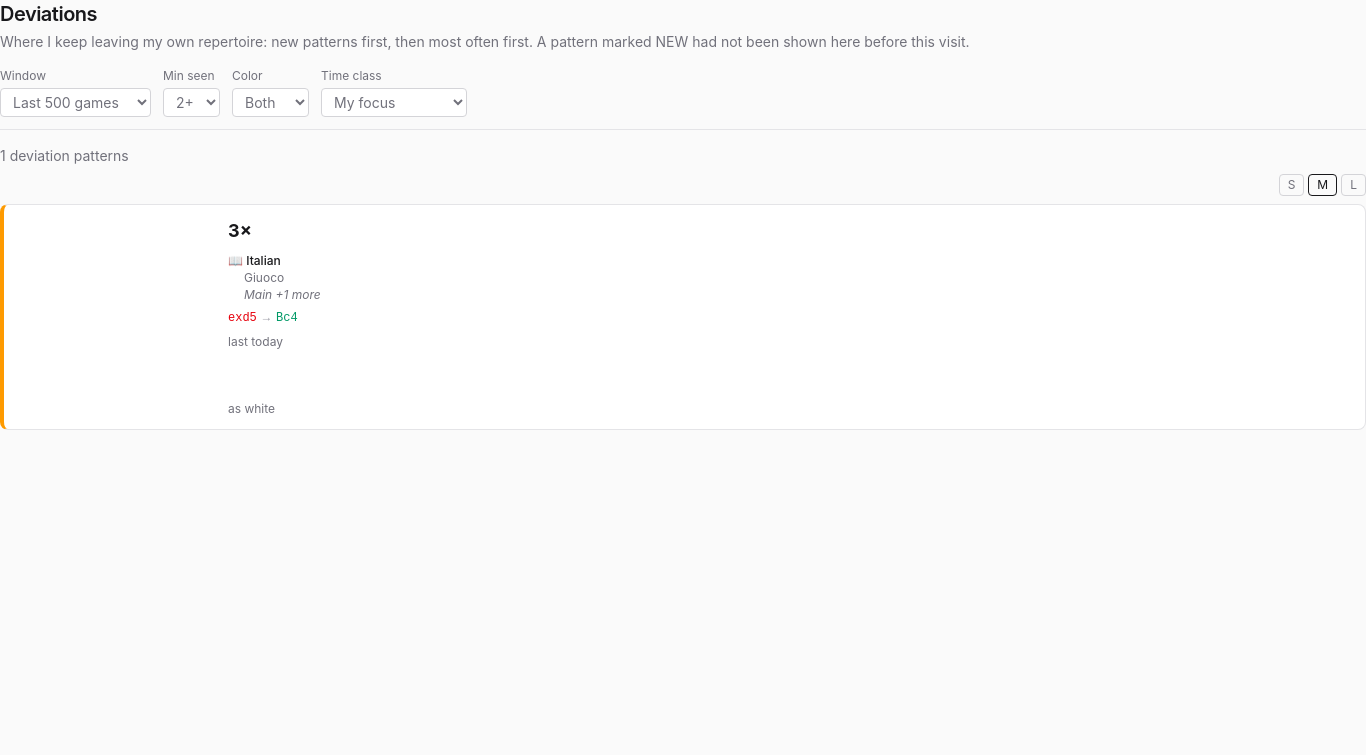
Test: Deviations page › similar positions asks about the pattern's most common move only when it is legal on the displayed board
Step 1. Click the text "3×" → (240,231), box [228, 217, 252, 245]
(page scrolled)
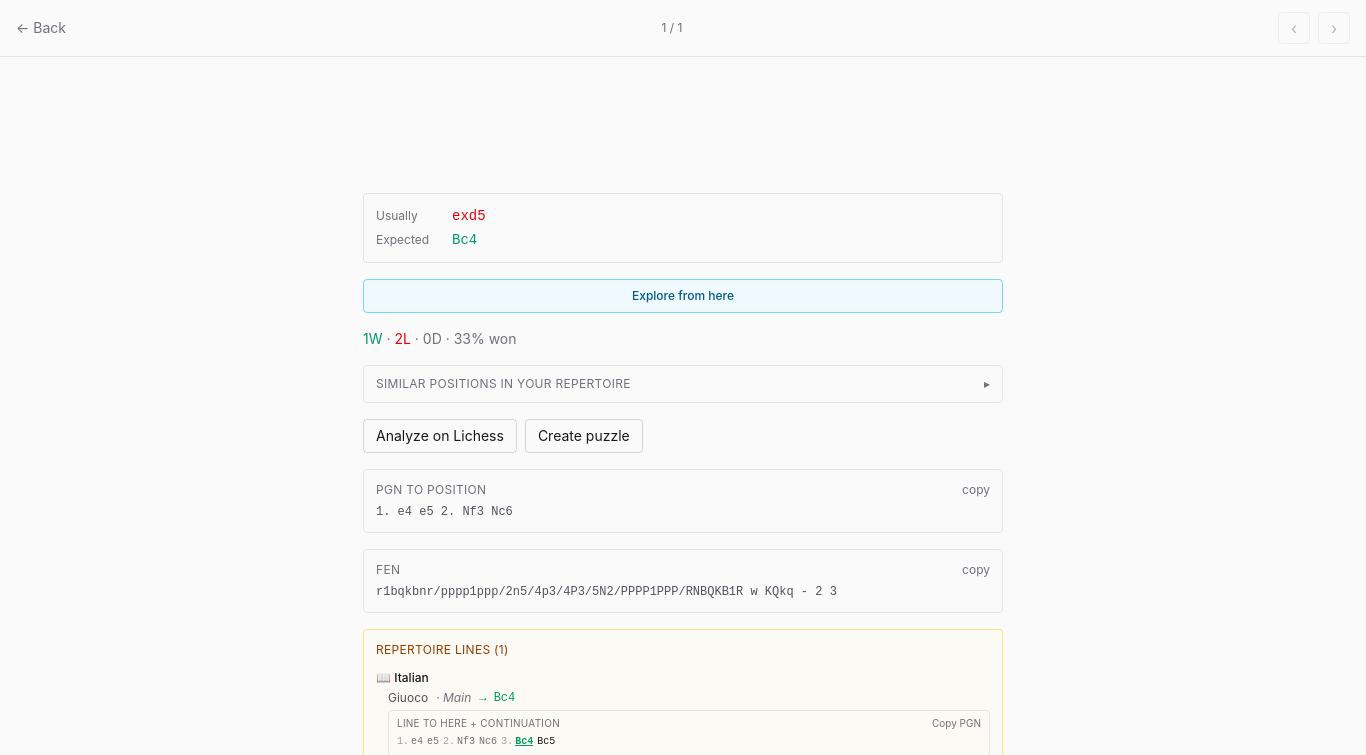
Step 2. Click the button "Similar positions in your repertoire ▸" → (503,384), box [364, 366, 1002, 402]
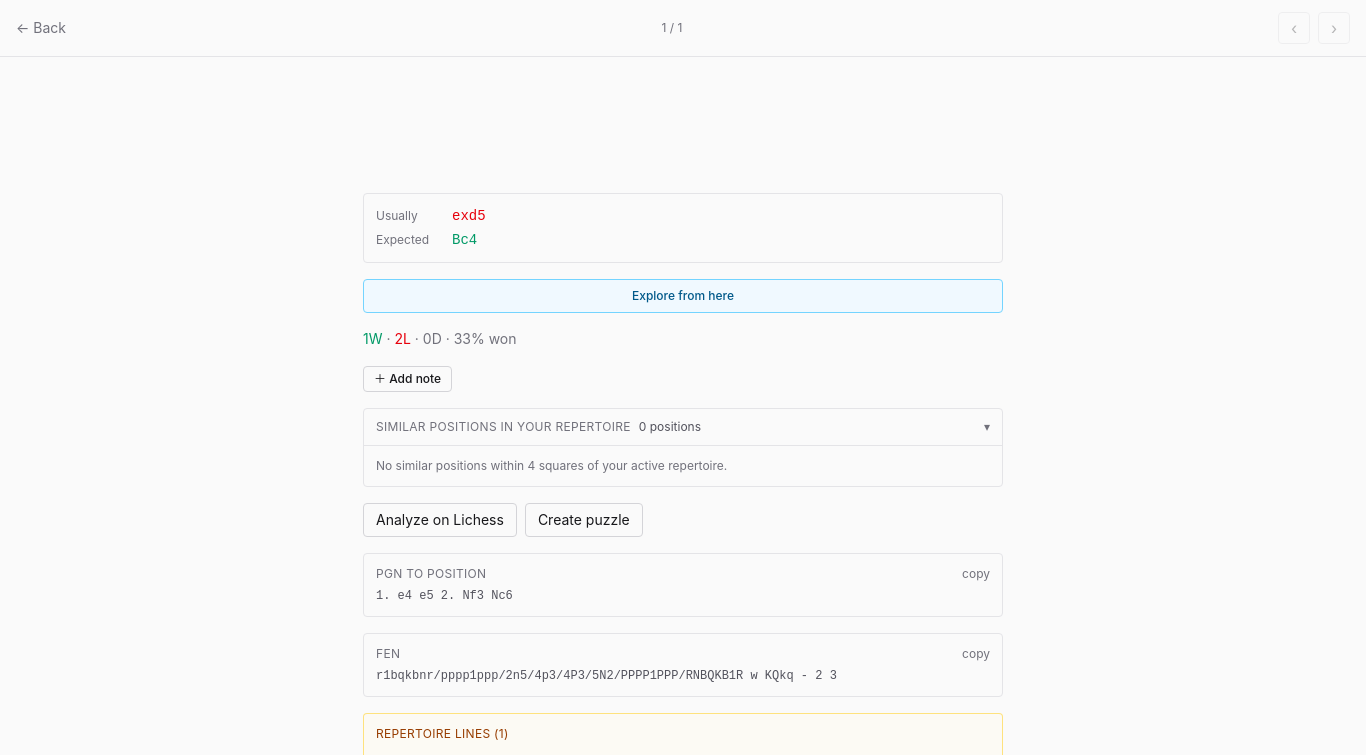
Result: the text "No similar positions within 4 squares" is shown at [376, 458, 727, 473]
